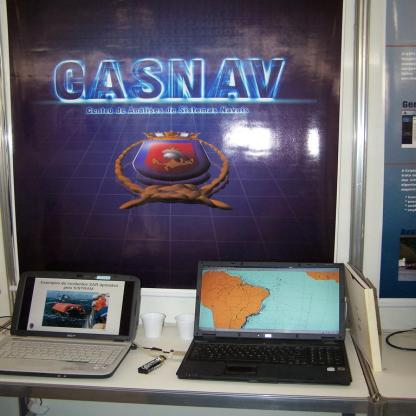board: (166, 255, 360, 397), (0, 270, 140, 378)
